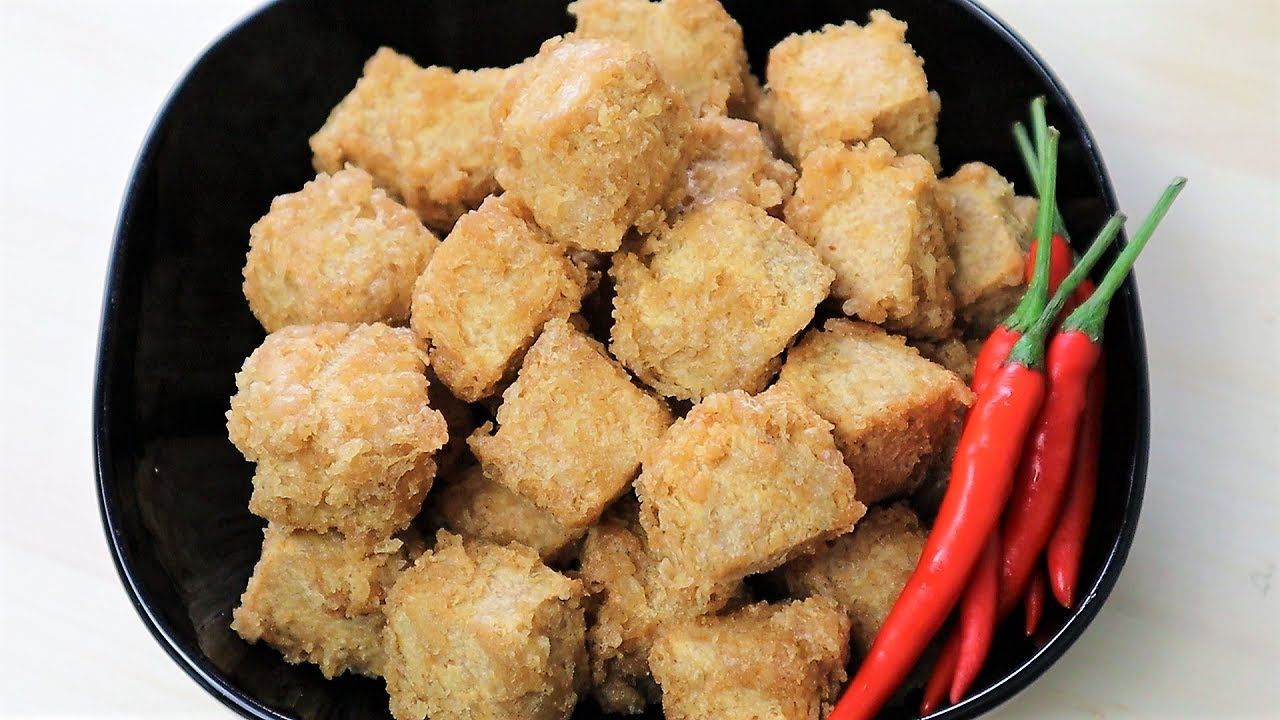Tahu: (349, 192, 581, 432), (626, 377, 867, 579), (620, 202, 810, 391), (382, 546, 580, 720), (517, 47, 669, 232), (488, 344, 645, 507)
